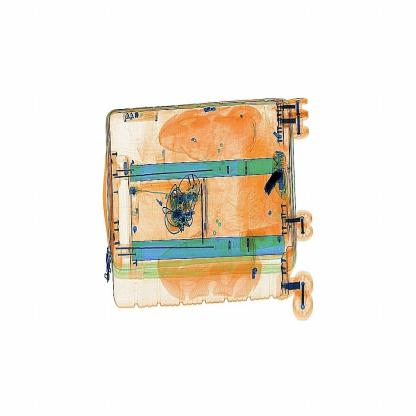scissors: (259, 162, 293, 206)
